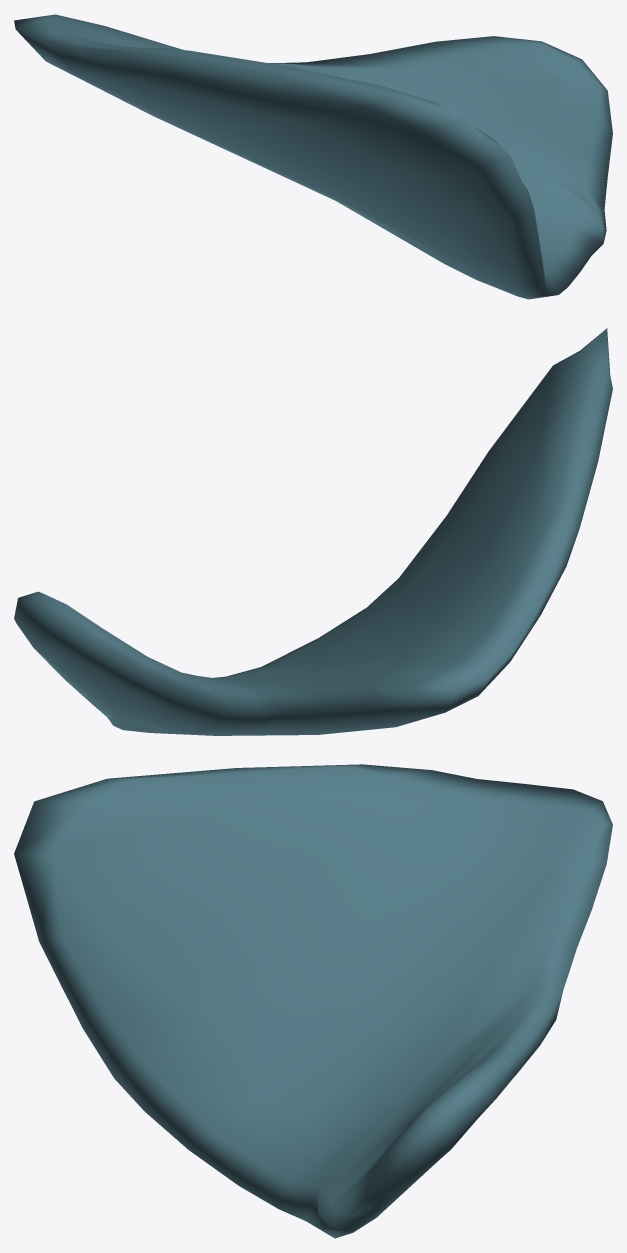
File: Long_plantar_ligament_4th_metatarsal_base_left.glb
3 renders of one model, top to bottom at view 1: azimuth 30°, elevation 25°; view 2: azimuth 150°, elevation 25°; view 3: azimuth 270°, elevation 25°, orthographic. The views are drawn at different scales.
Parts seen in each view (by area): view 1: Long_plantar_ligament_on_4th_metatarsal_base.l_Generated_Mes; view 2: Long_plantar_ligament_on_4th_metatarsal_base.l_Generated_Mes; view 3: Long_plantar_ligament_on_4th_metatarsal_base.l_Generated_Mes.
Part boxes in pixels (x1=…): Long_plantar_ligament_on_4th_metatarsal_base.l_Generated_Mes: x1=14, y1=14, x2=612, y2=299; Long_plantar_ligament_on_4th_metatarsal_base.l_Generated_Mes: x1=14, y1=328, x2=612, y2=735; Long_plantar_ligament_on_4th_metatarsal_base.l_Generated_Mes: x1=14, y1=764, x2=612, y2=1238.
Size of the model in its own units: 0.00534 by 0.00321 by 0.00563.
